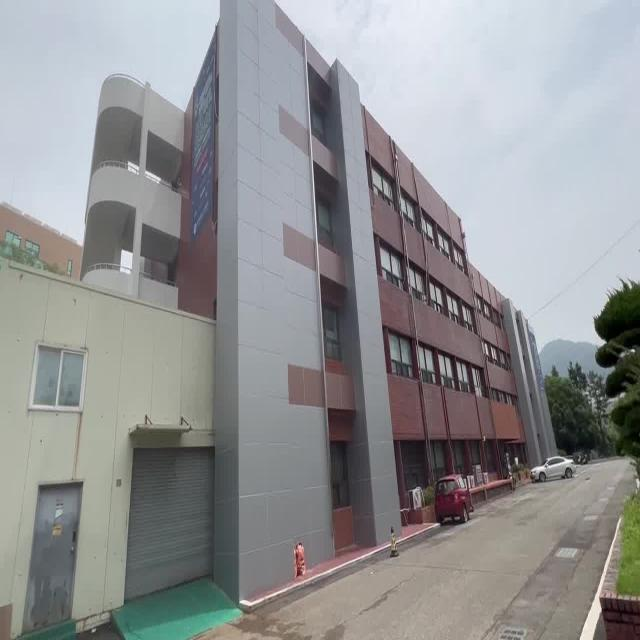building: (259, 194, 468, 438)
